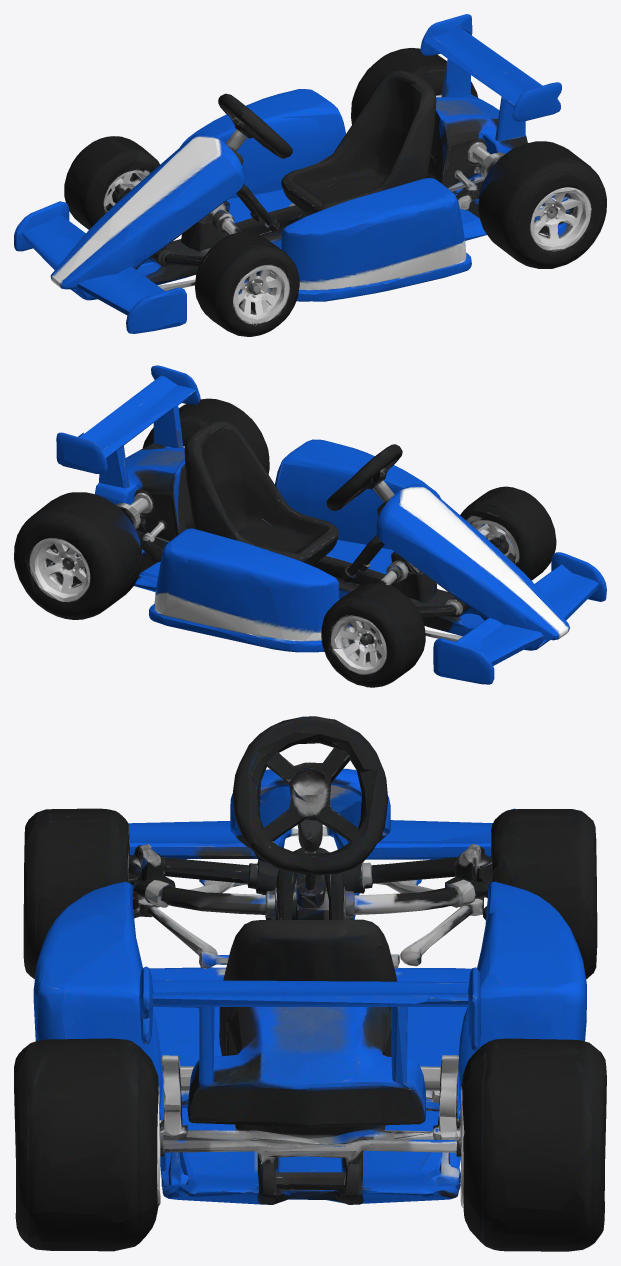
Rendered from k_blue.glb.
3 views of the same model, one above another, from view 1: azimuth 30°, elevation 25°; view 2: azimuth 150°, elevation 25°; view 3: azimuth 270°, elevation 25° (orthographic). The views are drawn at different scales.
Size of the model in its own units: 1.9 by 0.6663 by 1.15.
Materials: 1 (1 with a texture image).
